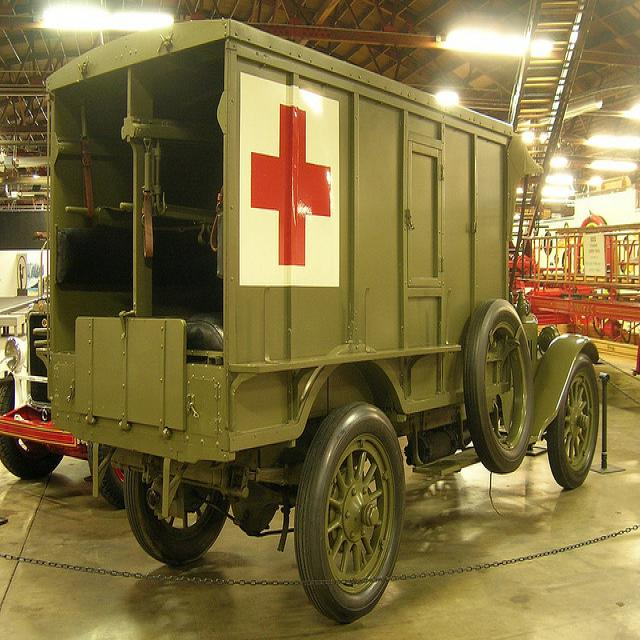Vehicle: (44, 19, 604, 611)
